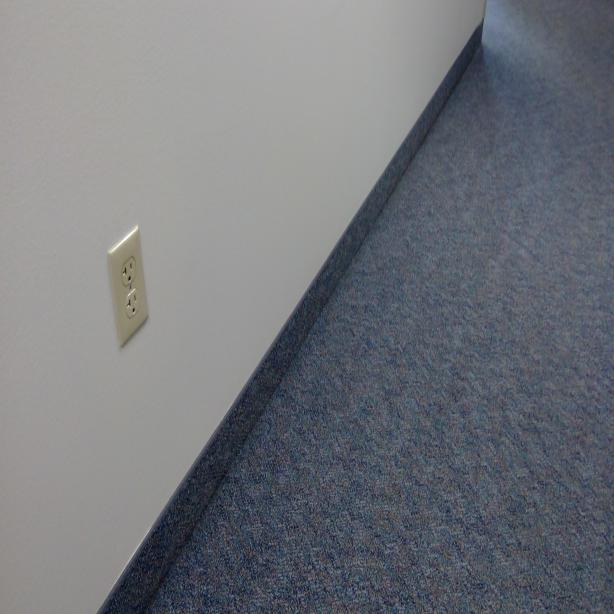typeb: (124, 288, 141, 316), (120, 257, 136, 286)
